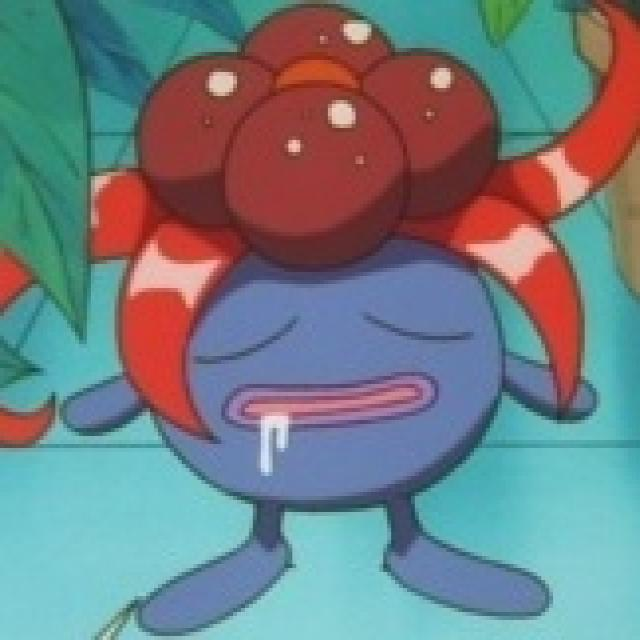Gloom: (66, 9, 614, 626)
